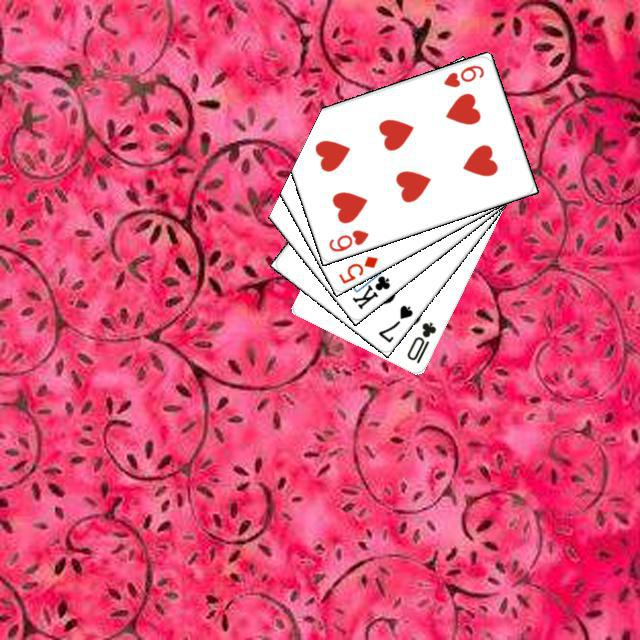10c: (402, 317, 438, 365)
5d: (334, 251, 379, 285)
6h: (439, 60, 486, 89), (324, 225, 370, 253)
7s: (373, 300, 415, 344)
Kc: (347, 263, 392, 311)
